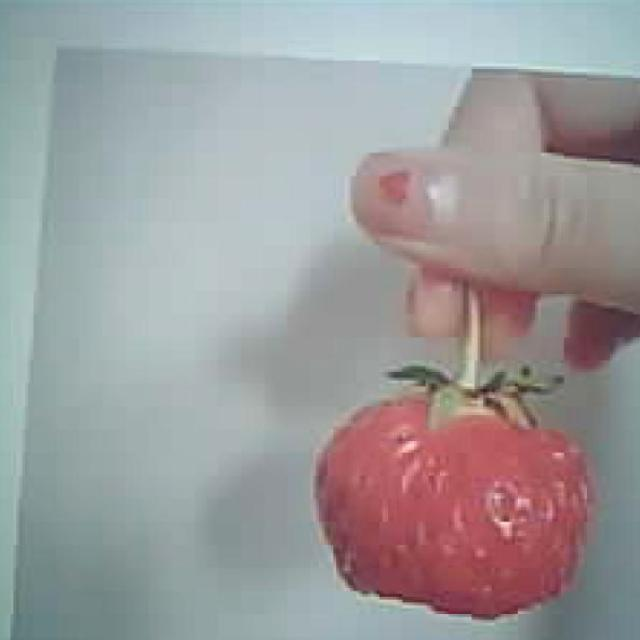Healthy Fruit: (311, 360, 594, 621)
